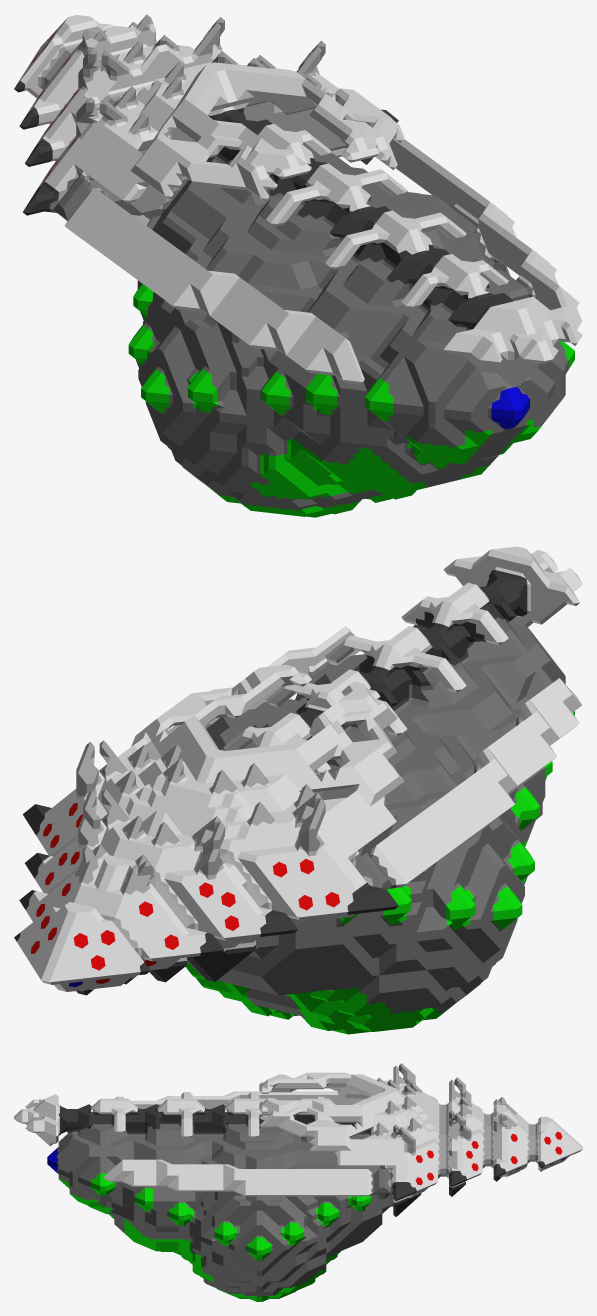
The model's file is ship_khaled_skel_mother_0.fbx.
The picture shows the model from 3 angles, top to bottom: view 1: azimuth 30°, elevation 25°; view 2: azimuth 150°, elevation 25°; view 3: azimuth 270°, elevation 25°; orthographic projection. The views are drawn at different scales.
Parts seen in each view (by area): view 1: ship_skel_mother_1.mc; view 2: ship_skel_mother_1.mc; view 3: ship_skel_mother_1.mc.
Part boxes in pixels (<box>): ship_skel_mother_1.mc: <box>14,14,582,517</box>; ship_skel_mother_1.mc: <box>14,546,582,1034</box>; ship_skel_mother_1.mc: <box>14,1063,582,1301</box>.
Size of the model in its own units: 4400 by 3800 by 10200.
